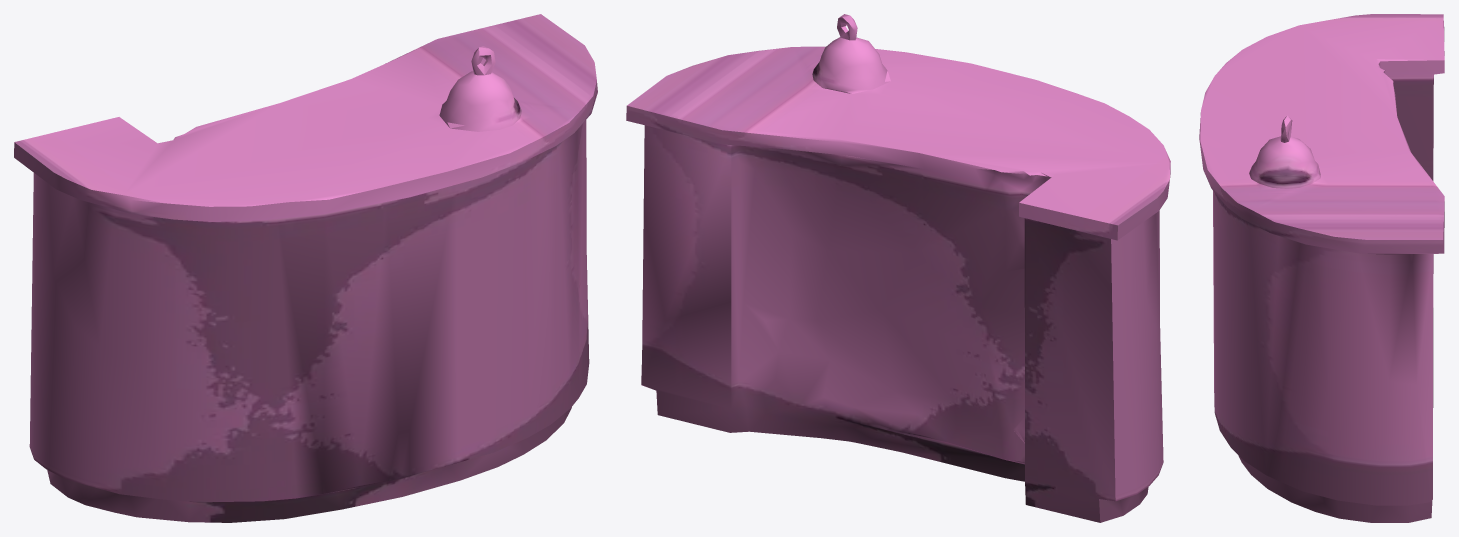
3 views of the same model, side by side, from view 1: azimuth 30°, elevation 25°; view 2: azimuth 150°, elevation 25°; view 3: azimuth 270°, elevation 25° (orthographic). The views are drawn at different scales.
Parts seen in each view (by area): view 1: Decor_info_desk_a_berry; view 2: Decor_info_desk_a_berry; view 3: Decor_info_desk_a_berry.
Boxes of the visible parts, x1,y1,x2,y2 form: Decor_info_desk_a_berry: (14, 14, 597, 522); Decor_info_desk_a_berry: (626, 14, 1170, 522); Decor_info_desk_a_berry: (1199, 14, 1444, 522).
Bounding box in the file's own units: 1.52 × 1.1 × 0.6975.
1 material, 1 textured.
